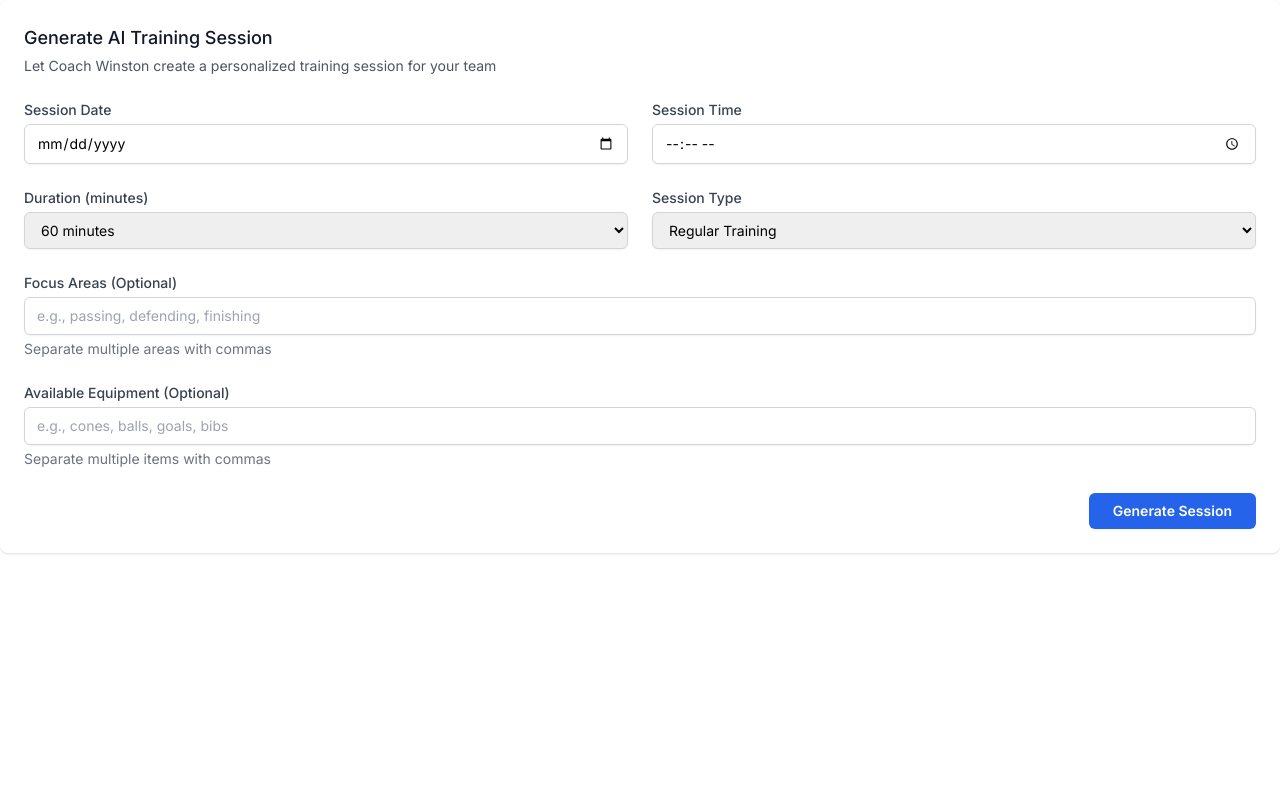
Test: SessionGeneratorForm › form validation › should show error when required fields are missing
The image size is (1280, 800).
Click the button "Generate Session" at (1172, 511), box x1=1089 y1=493 x2=1256 y2=529
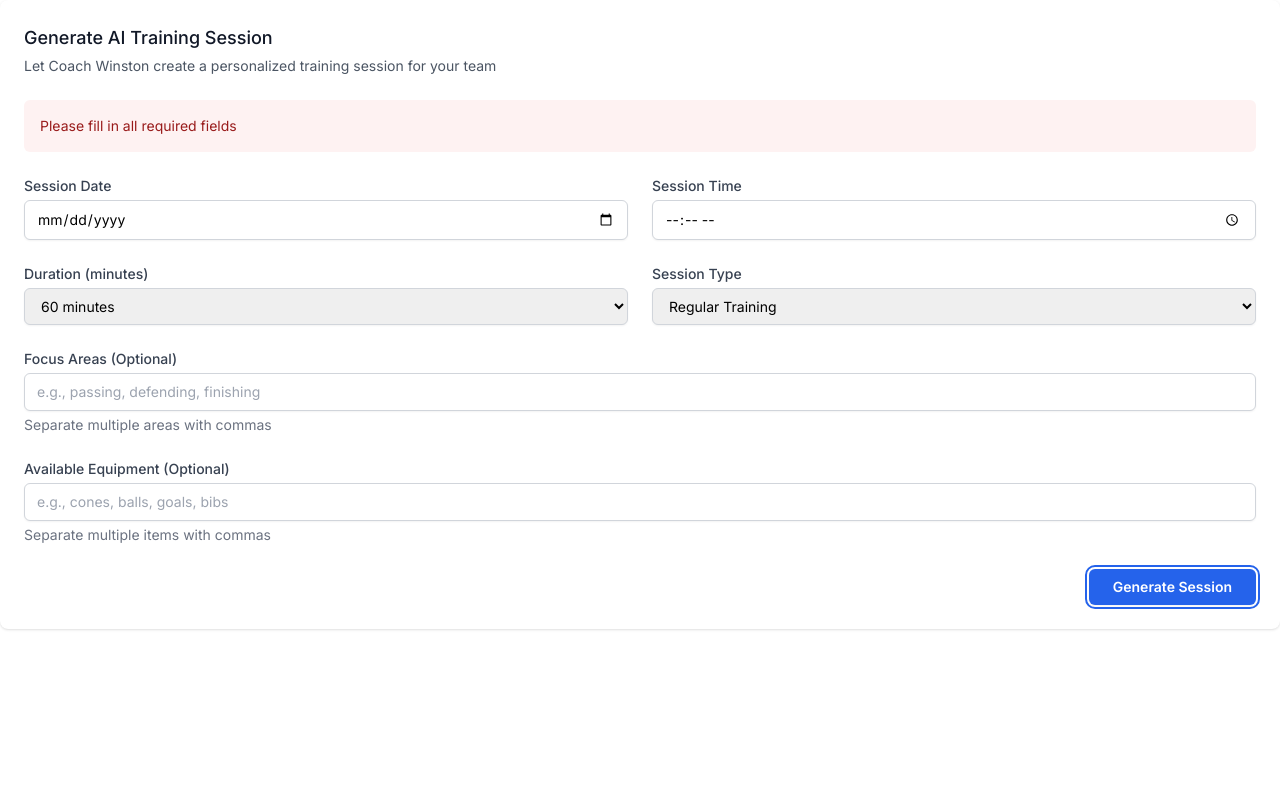
Check: the text "Please fill in all required fields" is shown, box x1=40 y1=117 x2=237 y2=134
